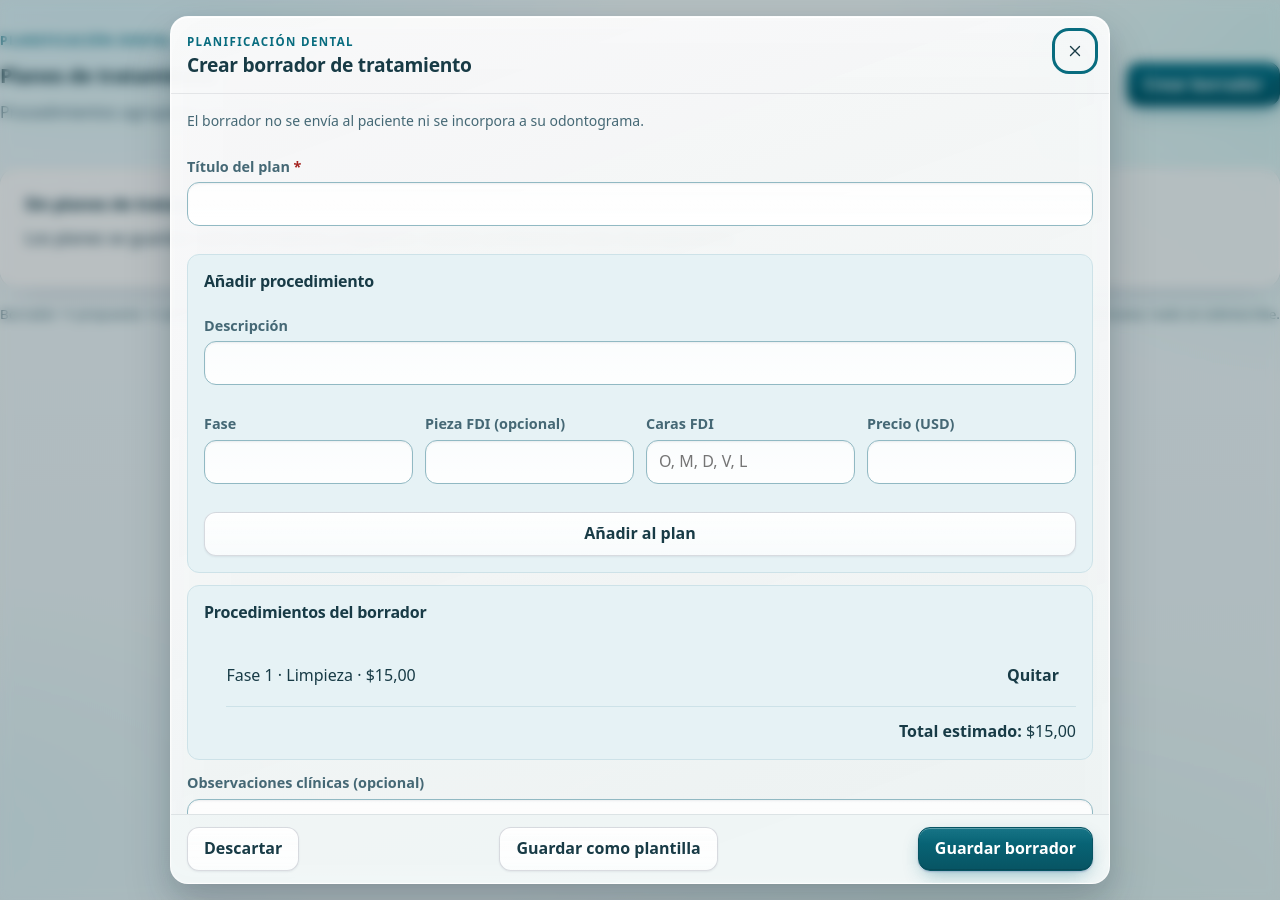
Test case: PlanesTratamientoComponent › valida y arma el borrador con su total
Click the submit button: coordinates (1005, 849) [918,827,1093,871]
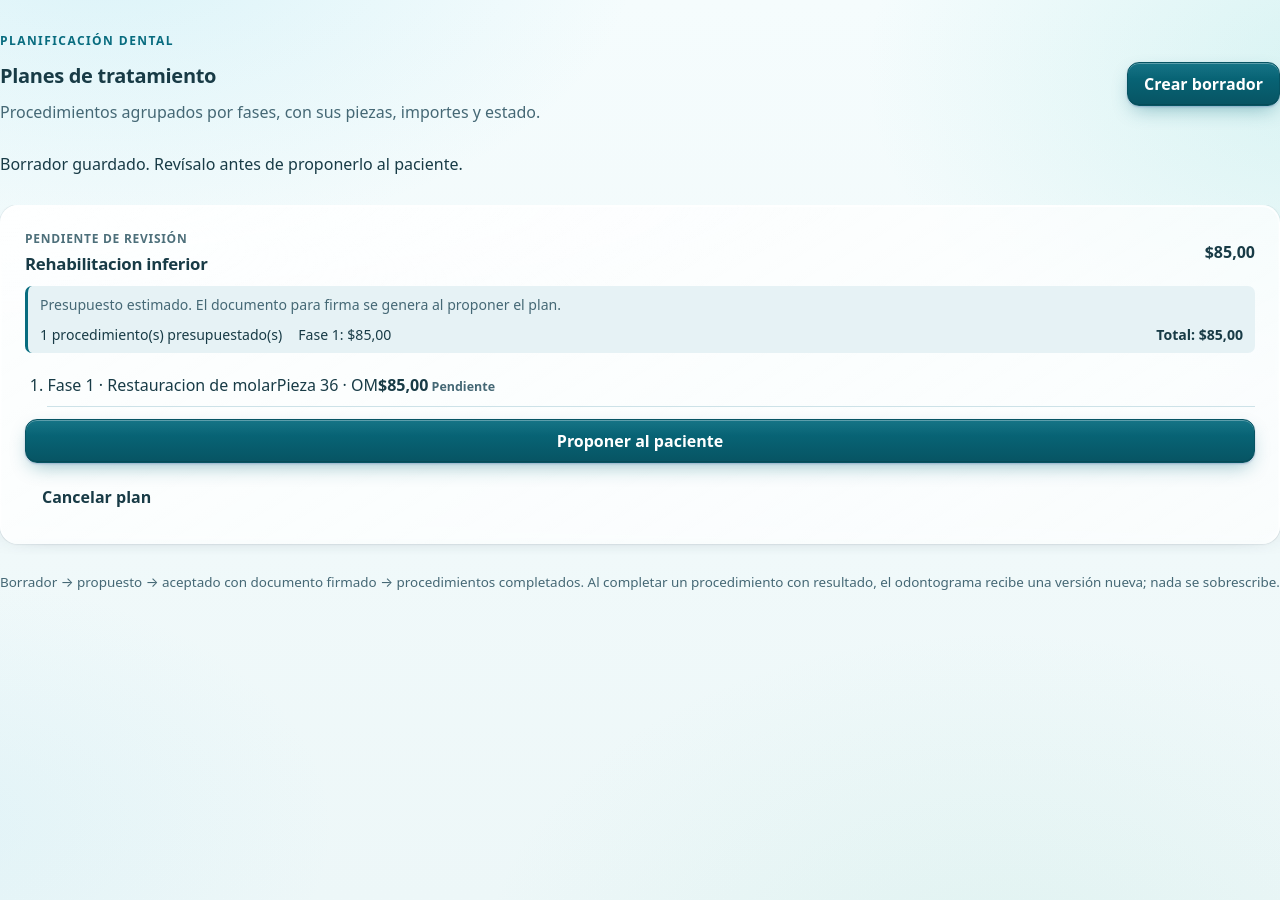
Now the text "Borrador guardado" is shown, box [0,153,463,175]
